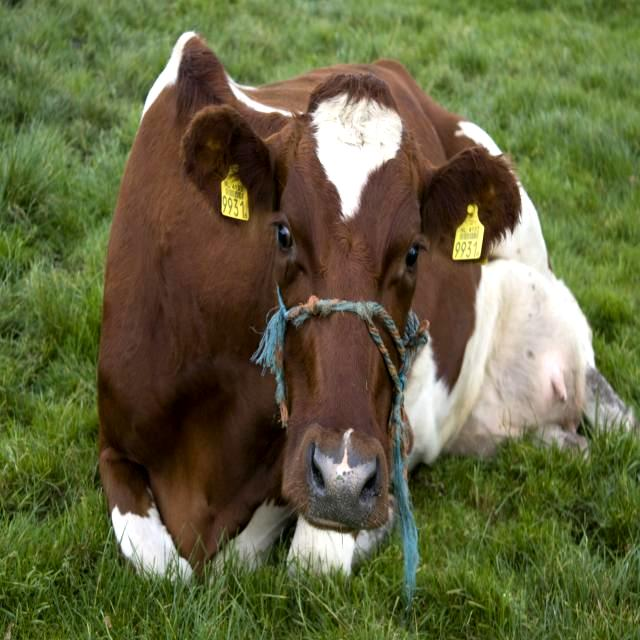COW: (98, 32, 635, 578)
